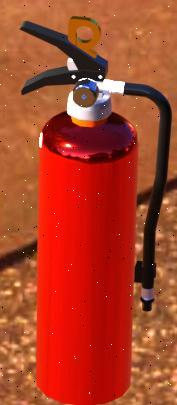Fire Extinguisher: (16, 13, 177, 405)
